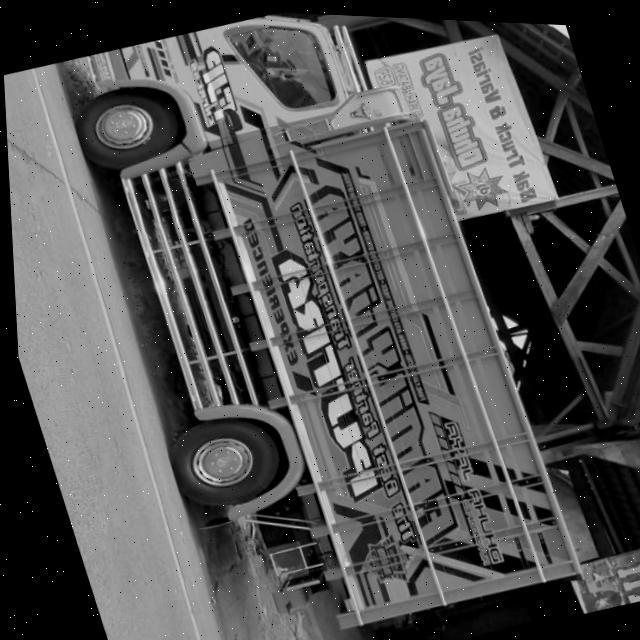truck: (53, 2, 585, 640)
